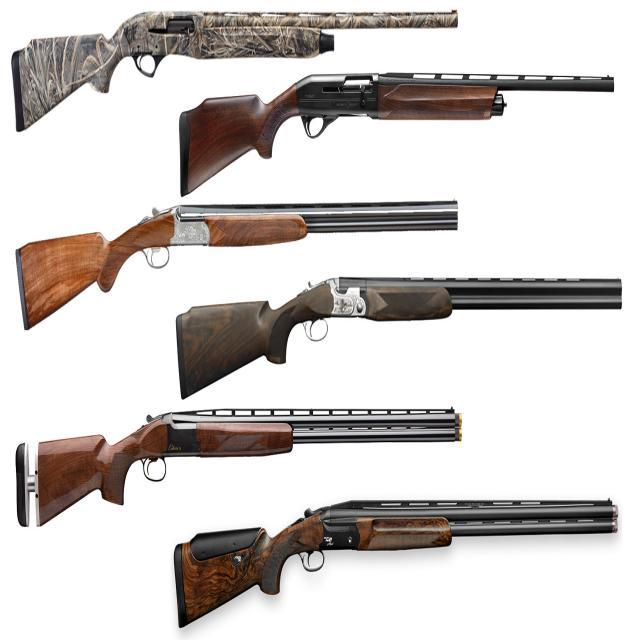shotgun: (6, 395, 477, 552), (7, 4, 483, 152), (14, 199, 470, 352), (171, 493, 629, 626), (174, 63, 620, 195), (172, 275, 626, 392)
